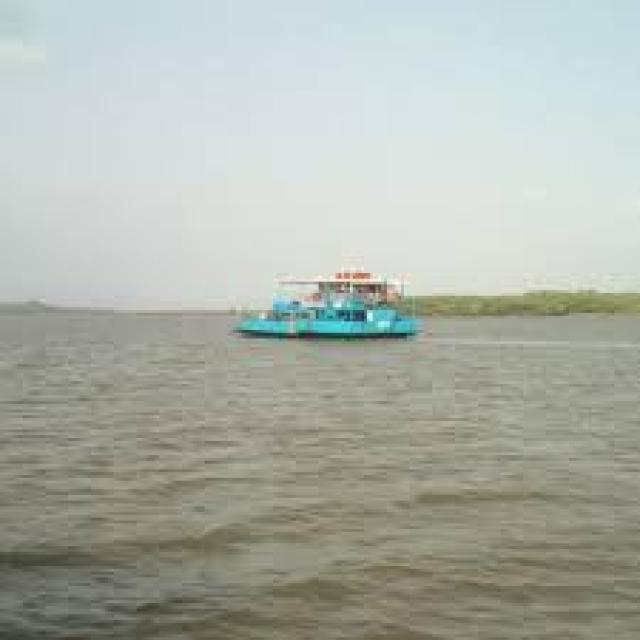fishing boat: (234, 259, 420, 343)
